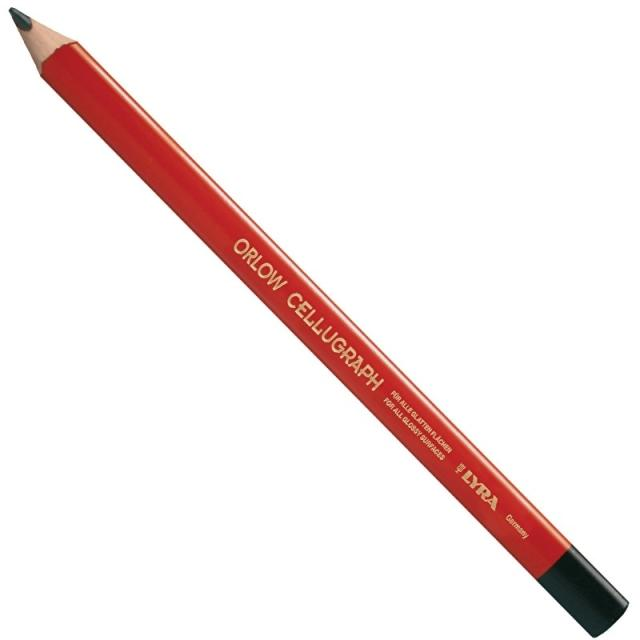pencil: (5, 2, 636, 640)
